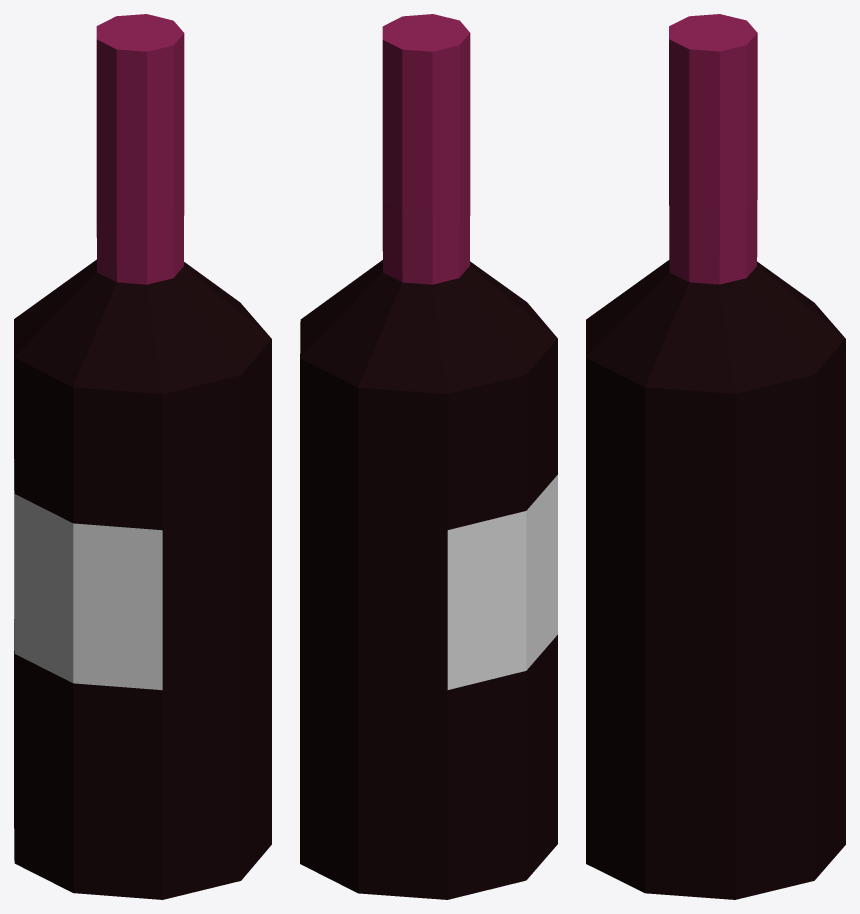
The model's file is bottlewine.fbx.
3 renders of one model, left to right at view 1: azimuth 30°, elevation 25°; view 2: azimuth 150°, elevation 25°; view 3: azimuth 270°, elevation 25°, orthographic.
Parts seen in each view (by area): view 1: Cylinder.003; view 2: Cylinder.003; view 3: Cylinder.003.
Part boxes in pixels (bbox=[...]): Cylinder.003: bbox=[14, 14, 271, 899]; Cylinder.003: bbox=[300, 14, 557, 899]; Cylinder.003: bbox=[586, 14, 845, 899].
Size of the model in its own units: 18.03 by 61.9 by 17.94.
